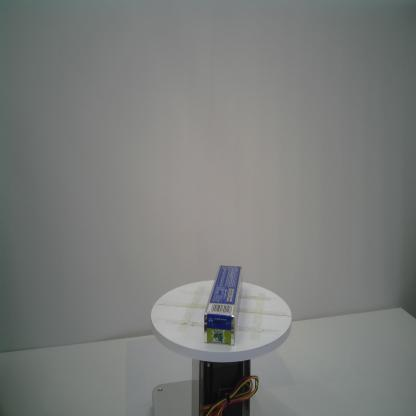Personal Hygiene: (203, 264, 243, 346)
